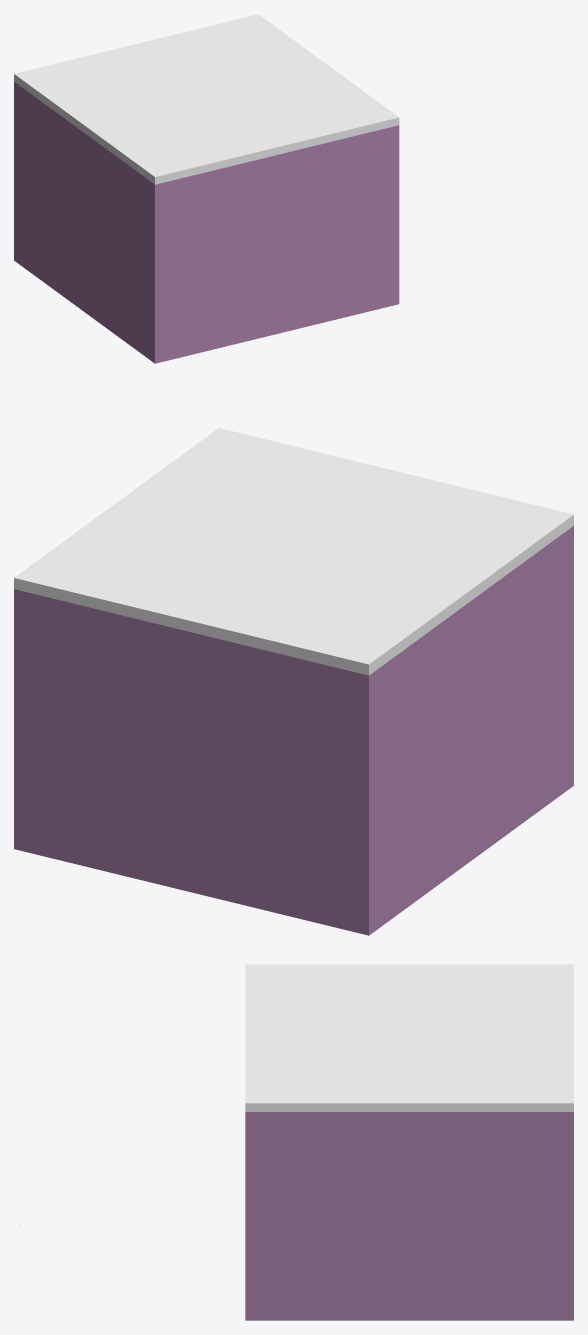
File: counter-Dszyu4pC.glb
The picture shows the model from 3 angles, top to bottom: view 1: azimuth 30°, elevation 25°; view 2: azimuth 150°, elevation 25°; view 3: azimuth 270°, elevation 25°; orthographic projection. The views are drawn at different scales.
Visible parts, largest first — view 1: Cube.001, Cube.002; view 2: Cube.001, Cube.002; view 3: Cube.001, Cube.002.
Boxes of the visible parts, left/top/right/bottom form: Cube.001: left=14, top=82, right=399, bottom=363; Cube.002: left=14, top=14, right=399, bottom=184; Cube.001: left=14, top=526, right=573, bottom=935; Cube.002: left=14, top=428, right=573, bottom=675; Cube.001: left=245, top=1112, right=573, bottom=1320; Cube.002: left=245, top=964, right=573, bottom=1111.
Size of the model in its own units: 2.62 by 1.46 by 3.41.
